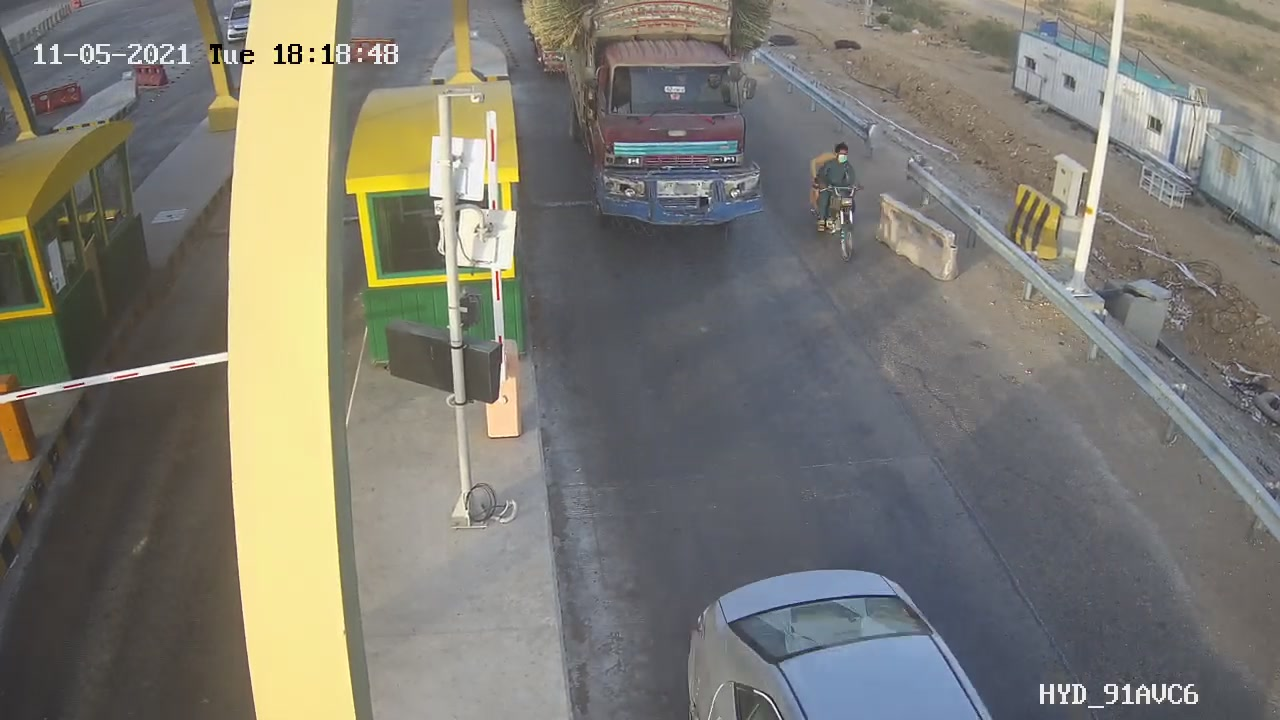F5: (566, 10, 797, 245)
